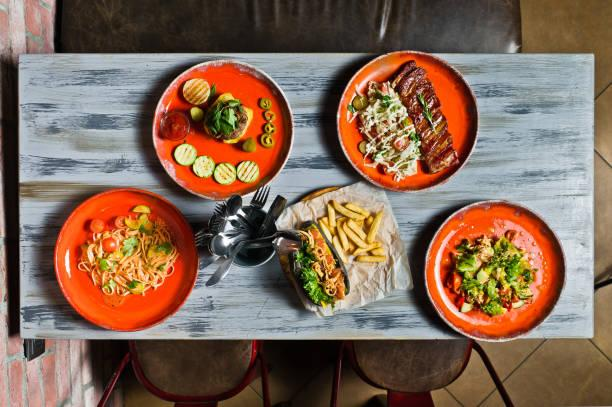Braised Crucian Carp: (330, 49, 481, 196), (422, 199, 568, 346), (49, 193, 193, 335), (149, 61, 292, 203), (297, 198, 386, 306)
